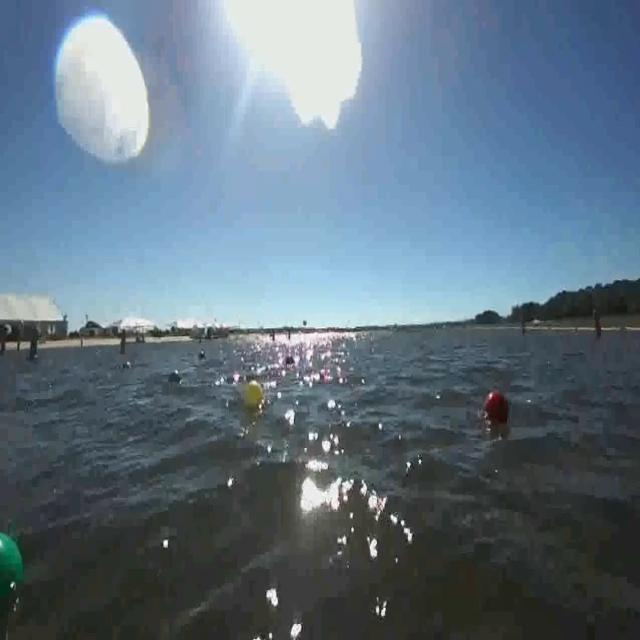green-buoy: (0, 527, 28, 602)
red-buoy: (484, 393, 508, 427)
yellow-buoy: (243, 377, 263, 406)
